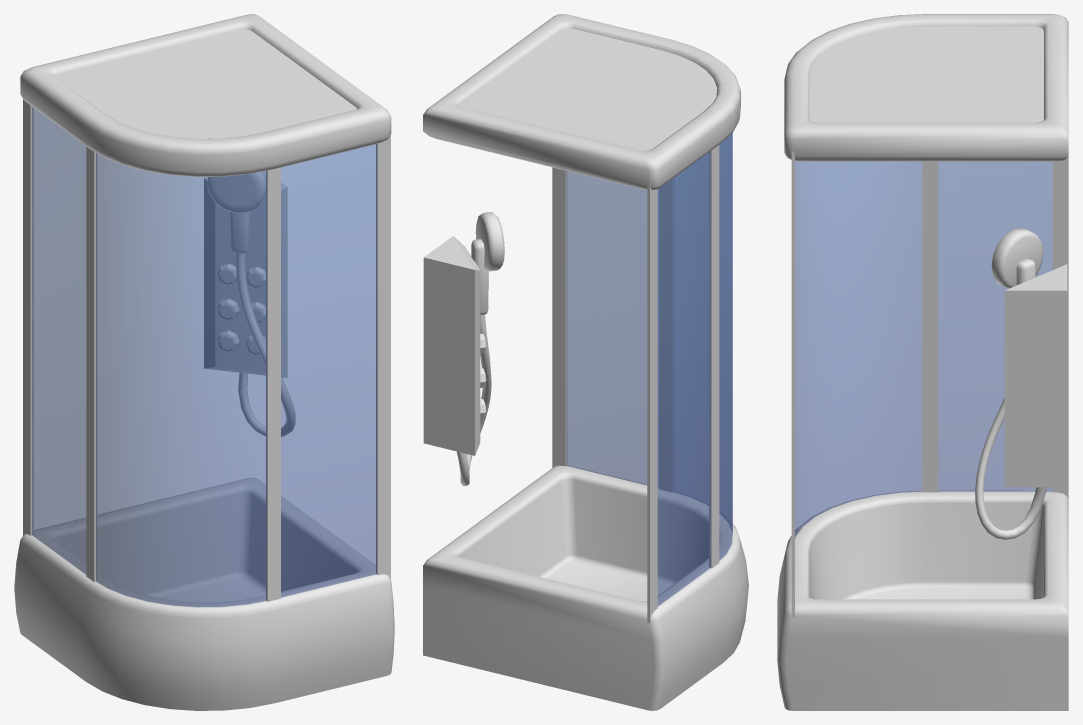
3 views of the same model, side by side, from view 1: azimuth 30°, elevation 25°; view 2: azimuth 150°, elevation 25°; view 3: azimuth 270°, elevation 25° (orthographic). The views are drawn at different scales.
Parts seen in each view (by area): view 1: Shower_01; view 2: Shower_01; view 3: Shower_01.
Part boxes in pixels (left/top/right/bottom): Shower_01: left=14, top=14, right=394, bottom=710; Shower_01: left=423, top=14, right=748, bottom=710; Shower_01: left=777, top=14, right=1068, bottom=710.
Bounding box in the file's own units: 0.8204 × 1.8 × 0.8204.
Materials: 2 (1 with a texture image).
